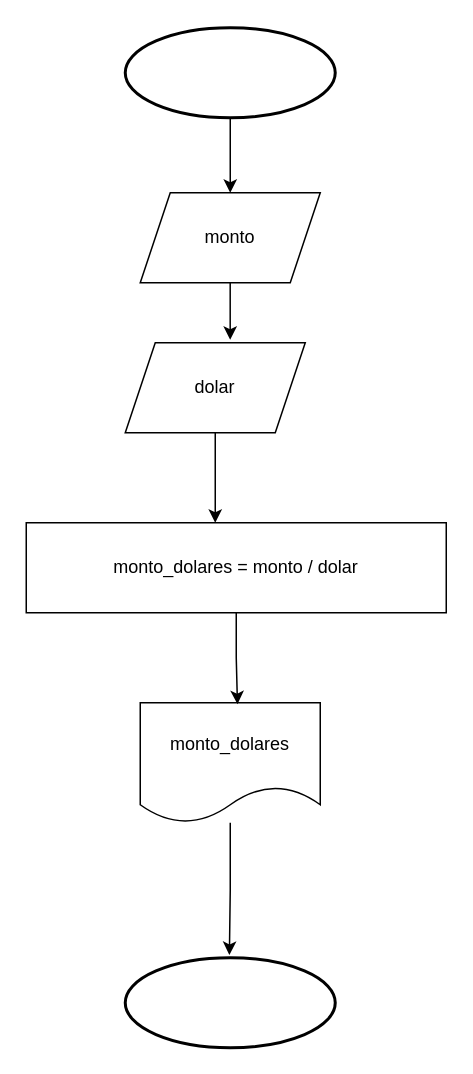
This 473x1074 diagram has some shape labels left out. Here are the shapes that lost their labels. From the top down, the box of each, then its label:
(123, 26, 336, 118): Inicio Casa de cambio
(123, 956, 336, 1048): Fin Casa de cambio
